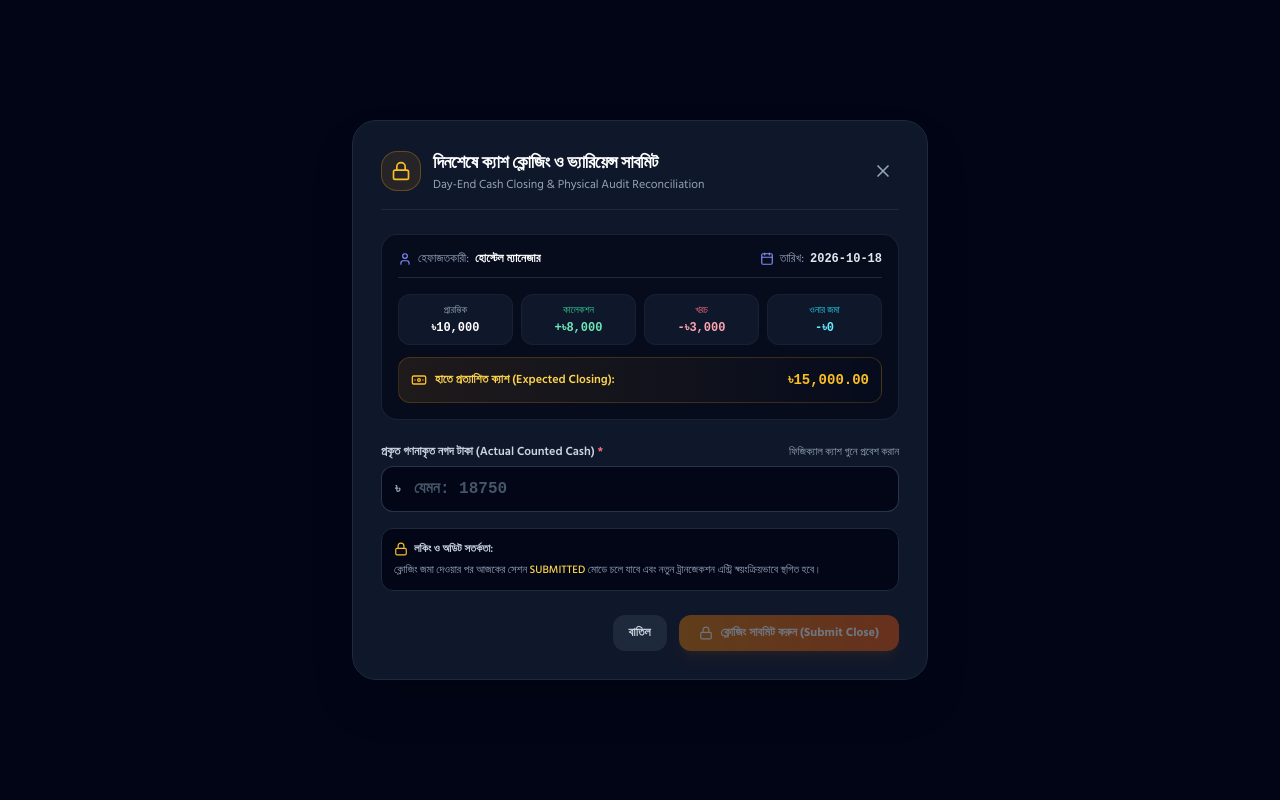
it: DailyClosingModal.test.tsx - Variance Enforcement & Mandatory Explanation › enables submit button when valid explanation (>= 5 chars) is entered for non-zero variance
Type "14500" into the number field.
click(640, 489); type("14500")  # box [381,466,899,512]
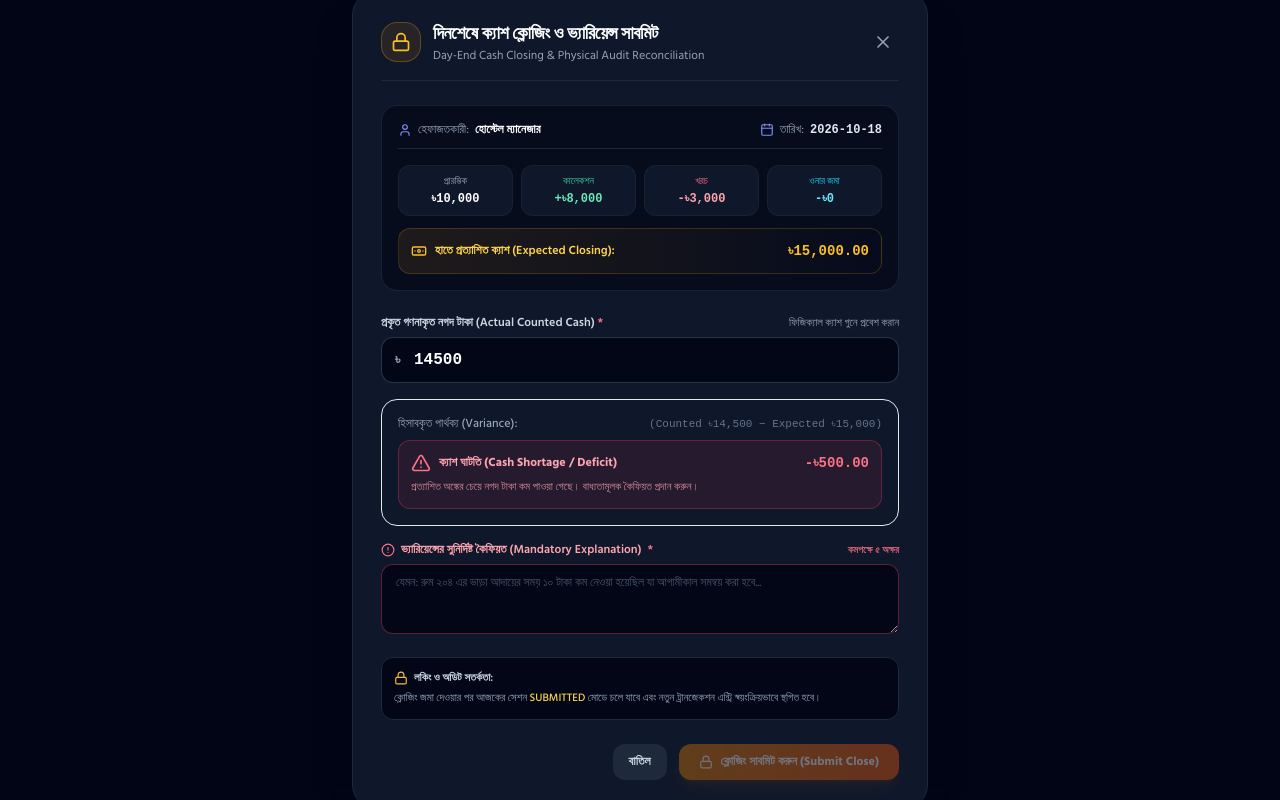
Replace the text in the text box with "খুচরা টাকার কাউন্টিং ঘাটতি ও ভাউচার সমন্বয়" at (640, 599), box [381,564,899,634]
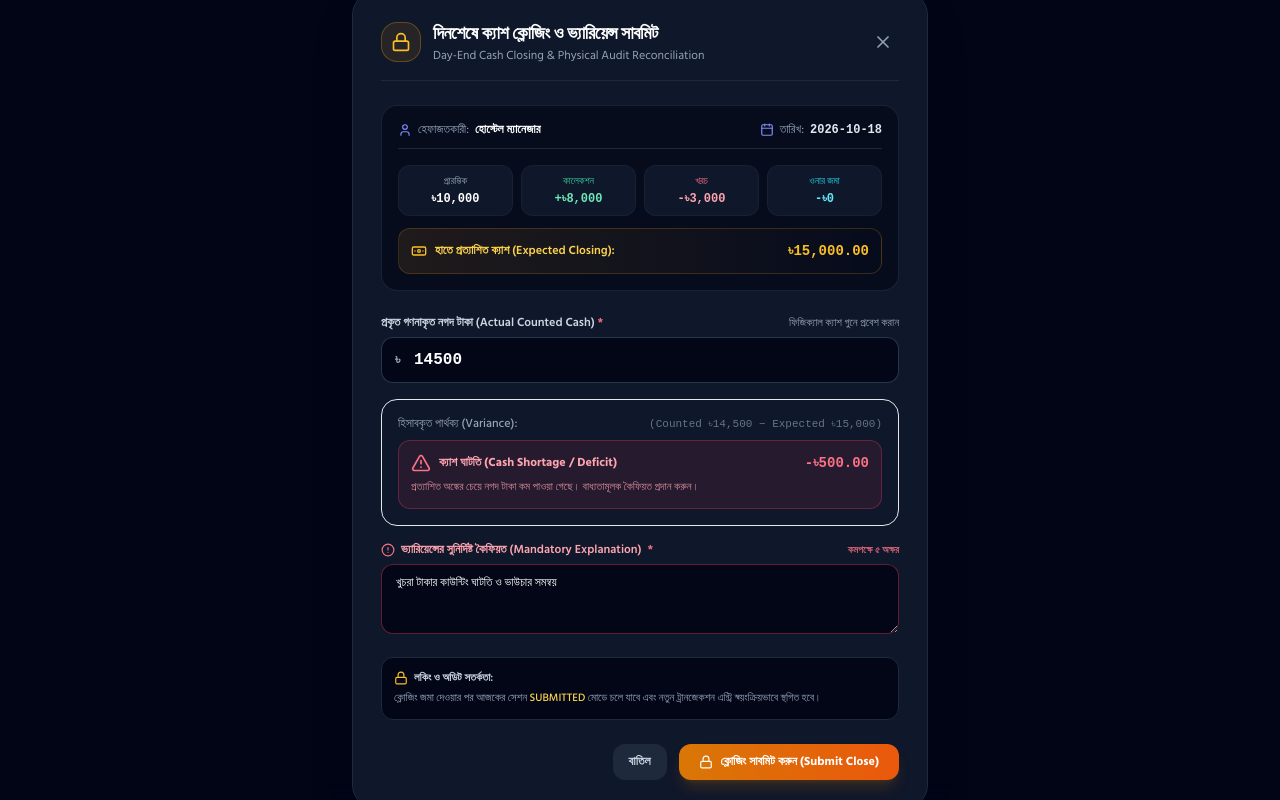
Result: the button "ক্লোজিং সাবমিট করুন (Submit Close)" is enabled at [678,744,899,780]
